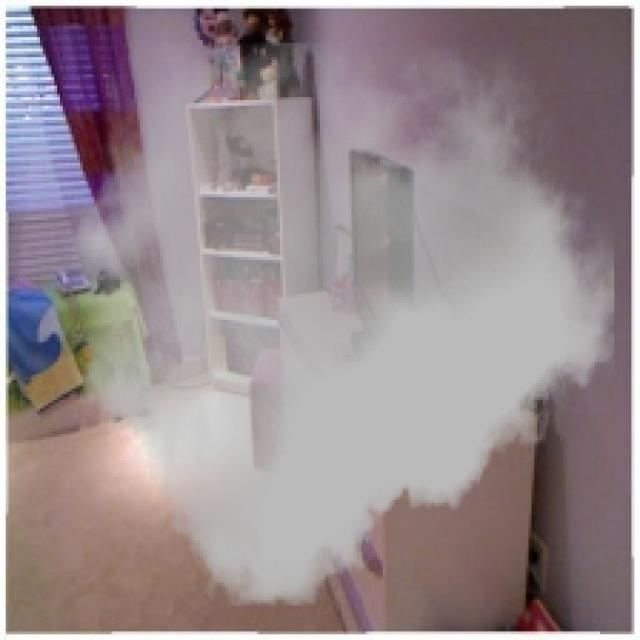Smoke: (71, 43, 614, 606)
